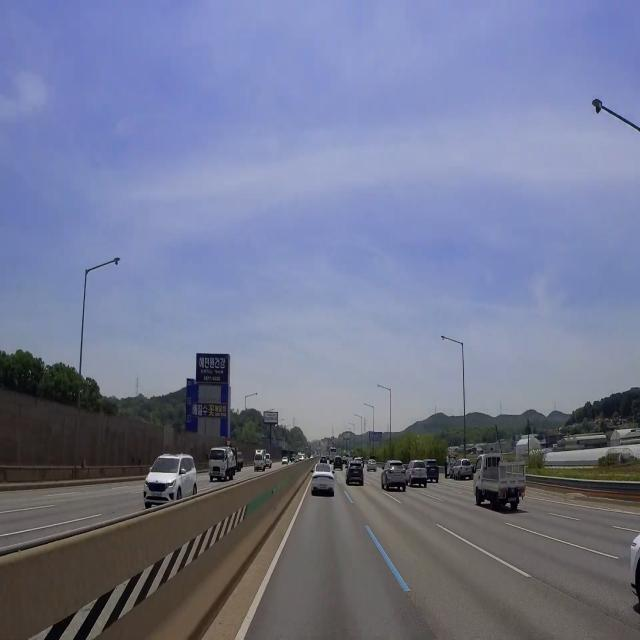car: (503, 491, 522, 507), (147, 487, 163, 504), (315, 482, 330, 496)
